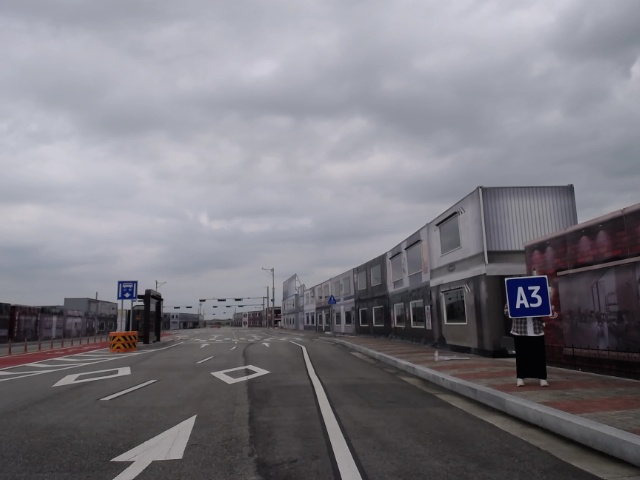delivery_a3: (506, 276, 551, 318)
